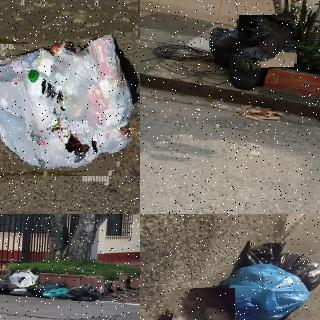Garbage: (0, 37, 140, 182), (211, 265, 311, 320), (242, 240, 320, 292), (238, 14, 296, 69), (169, 286, 237, 320), (208, 24, 253, 68), (226, 52, 264, 90), (8, 269, 40, 289), (69, 283, 102, 301), (33, 282, 65, 296), (42, 288, 69, 300), (0, 279, 15, 293)
